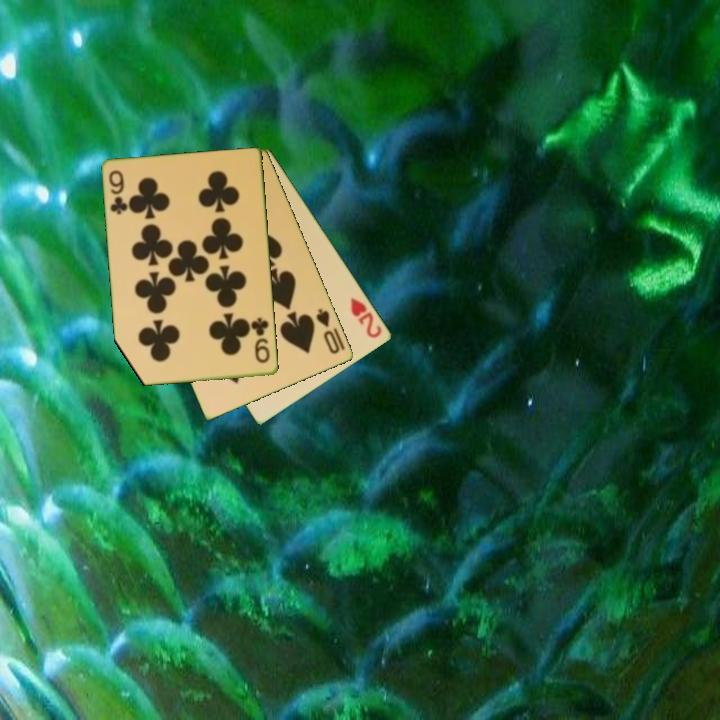10s: (313, 305, 343, 357)
2h: (347, 294, 385, 341)
9c: (249, 314, 273, 366), (106, 167, 130, 217)
